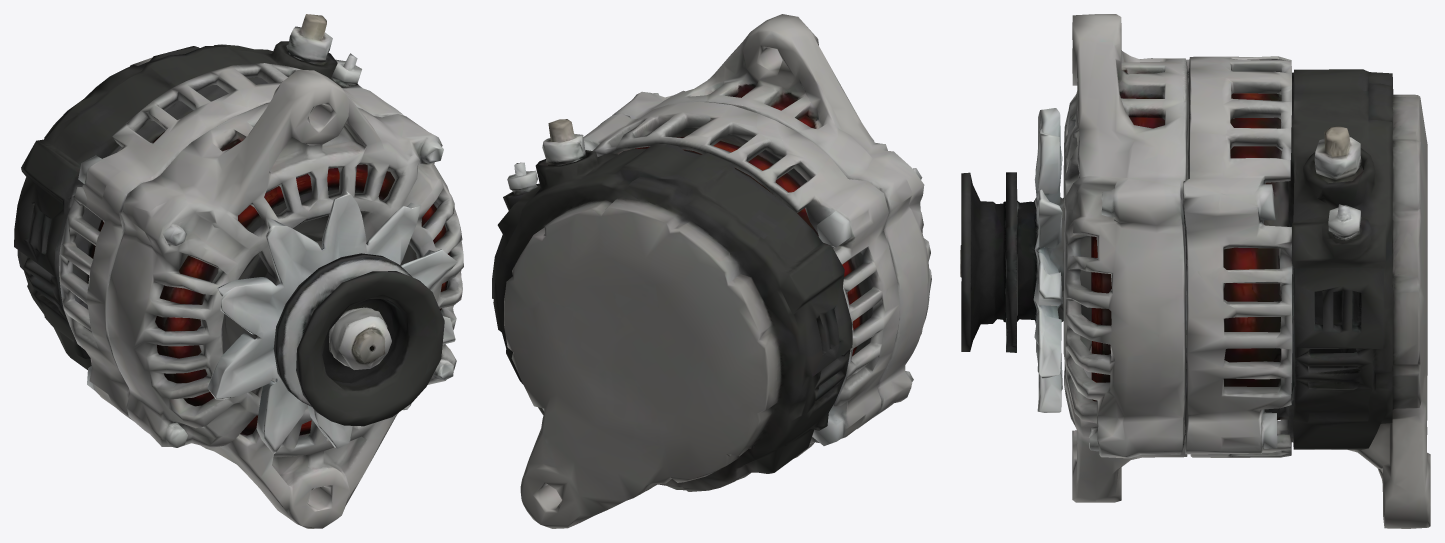
File: alternator-vacuum-pump.glb
3 views of the same model, side by side, from view 1: azimuth 30°, elevation 25°; view 2: azimuth 150°, elevation 25°; view 3: azimuth 270°, elevation 25° (orthographic). The views are drawn at different scales.
Visible parts, largest first — view 1: tripo_node_0334bf1e-6f9c-46d6-9e7d-dd6264f88a52; view 2: tripo_node_0334bf1e-6f9c-46d6-9e7d-dd6264f88a52; view 3: tripo_node_0334bf1e-6f9c-46d6-9e7d-dd6264f88a52.
Boxes of the visible parts, left/top/right/bottom form: tripo_node_0334bf1e-6f9c-46d6-9e7d-dd6264f88a52: left=14, top=14, right=463, bottom=528; tripo_node_0334bf1e-6f9c-46d6-9e7d-dd6264f88a52: left=492, top=14, right=931, bottom=528; tripo_node_0334bf1e-6f9c-46d6-9e7d-dd6264f88a52: left=960, top=14, right=1430, bottom=528.
Bounding box in the file's own units: 0.7776 × 1 × 0.8858.
Materials: 1 (1 with a texture image).
